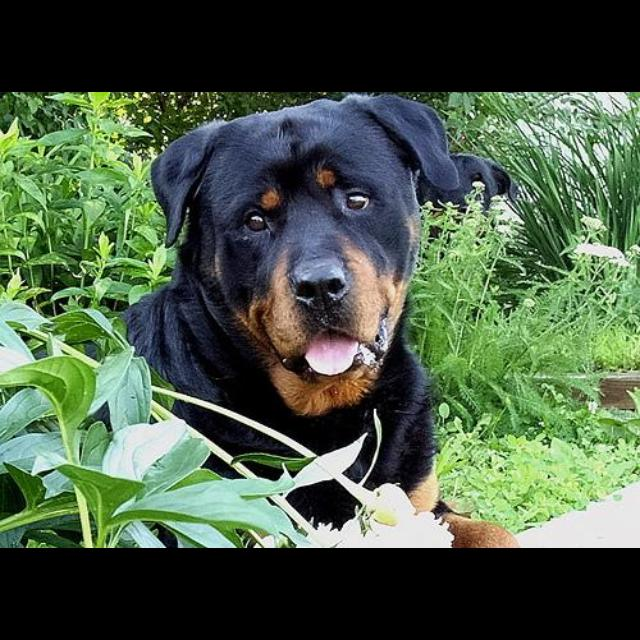rottweiler: (102, 94, 525, 549)
